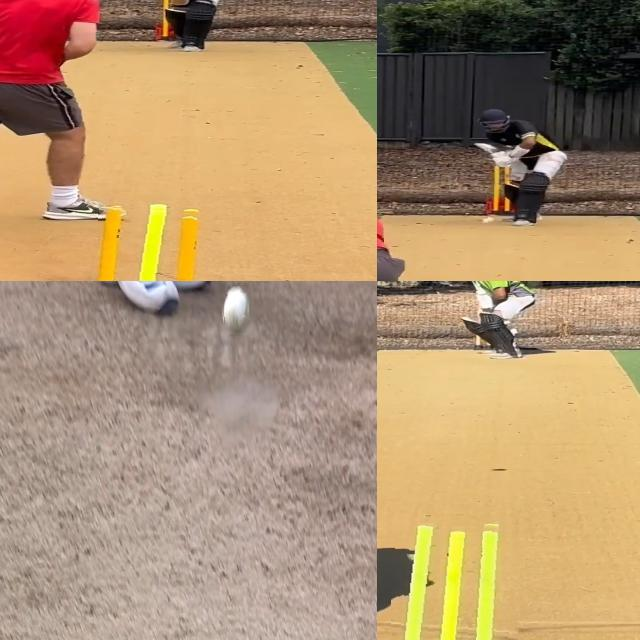Cricket ball: (222, 283, 250, 335), (392, 281, 417, 286), (482, 217, 496, 225)
Stumps: (391, 517, 528, 640), (91, 205, 214, 281)
